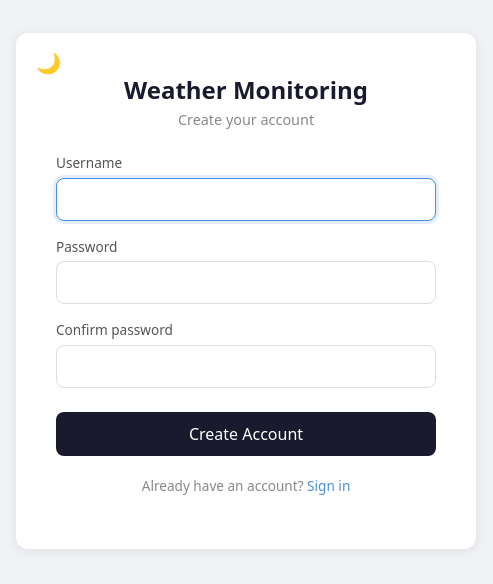
RegisterPage › shows validation error when fields are empty
Click the button "Create Account" at (246, 434), box x1=56 y1=412 x2=436 y2=456
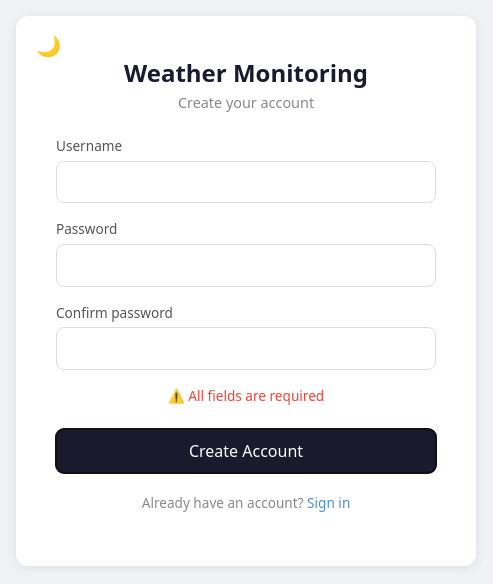
Check: the text "⚠️ All fields are required" is shown, box x1=168 y1=386 x2=324 y2=405
